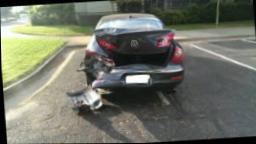Bumper: (83, 58, 182, 91)
Dickey: (91, 27, 173, 68)
Light: (84, 52, 114, 66)
